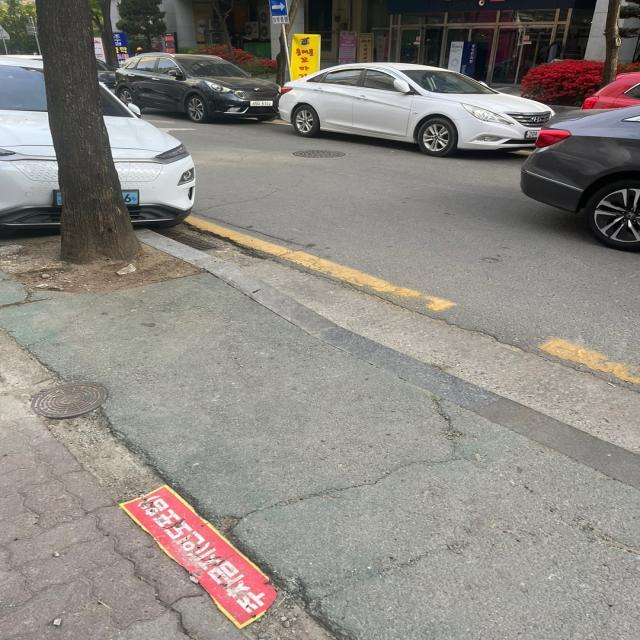Sewer Cover: (277, 137, 365, 173)
